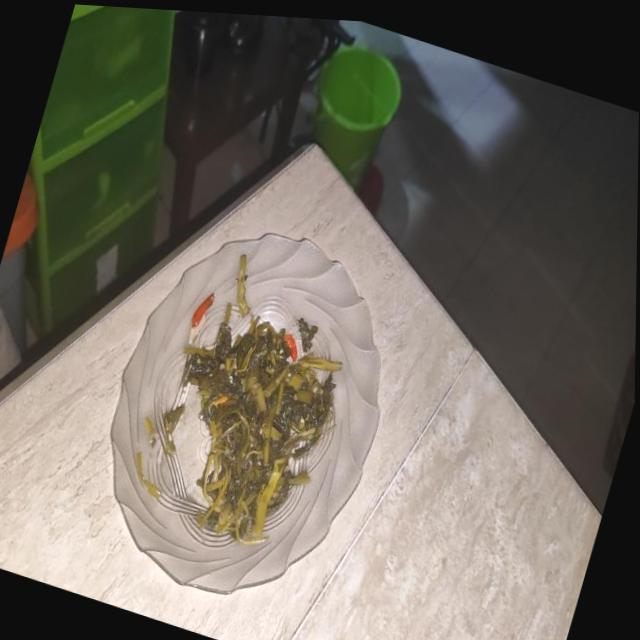tumis_kangkung: (182, 316, 341, 543)
